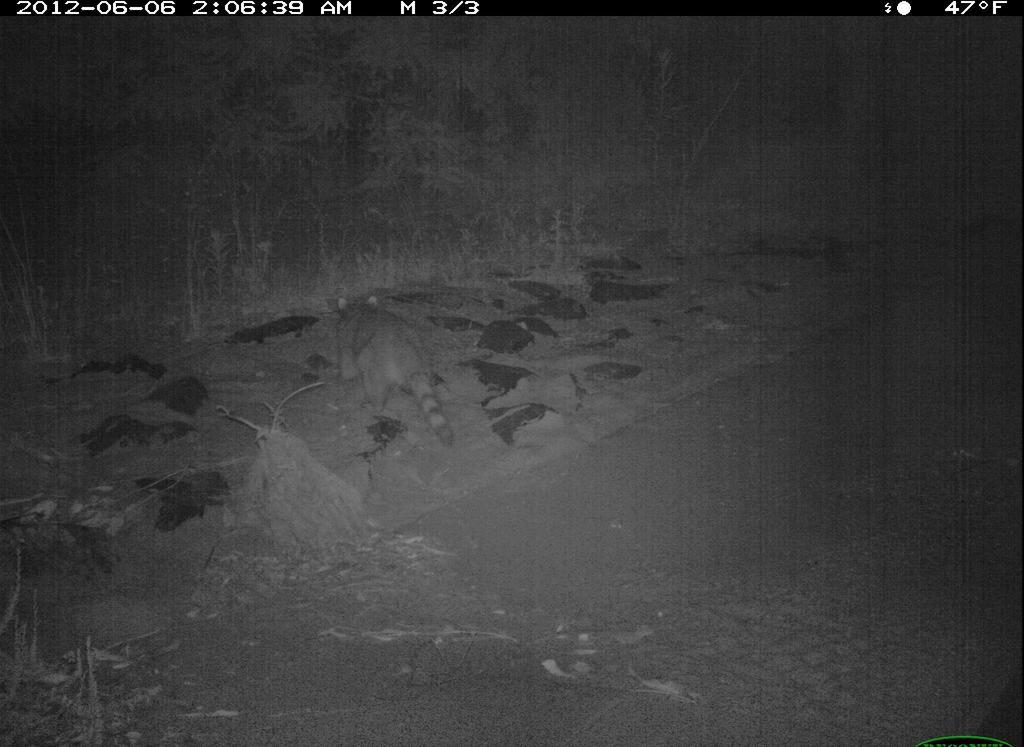raccoon: (326, 286, 465, 456)
